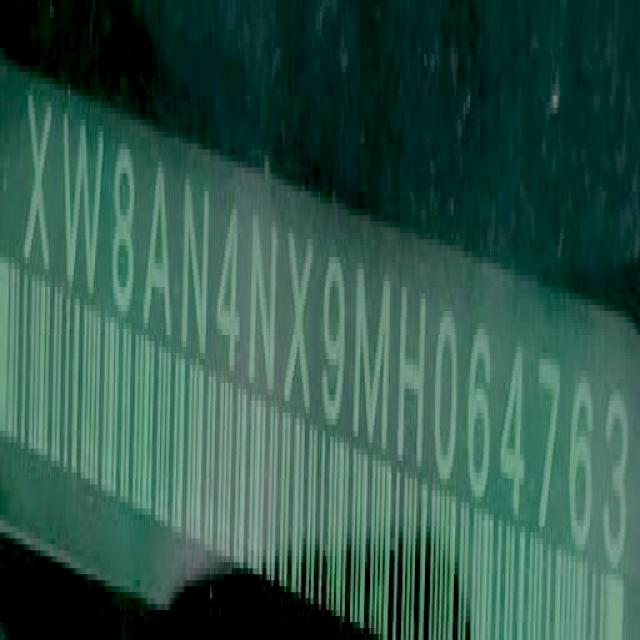0: (434, 306, 459, 492)
3: (604, 382, 631, 575)
4: (499, 341, 528, 536), (216, 197, 242, 380)
6: (568, 370, 592, 561), (466, 321, 490, 511)
7: (538, 350, 564, 540)
8: (113, 144, 137, 323)
9: (322, 249, 344, 435)
A: (141, 162, 173, 349)
H: (398, 283, 428, 475)
M: (356, 260, 394, 461)
N: (182, 172, 212, 365), (250, 210, 280, 398)
W: (62, 106, 102, 302)
X: (286, 221, 316, 423), (24, 87, 53, 286)
